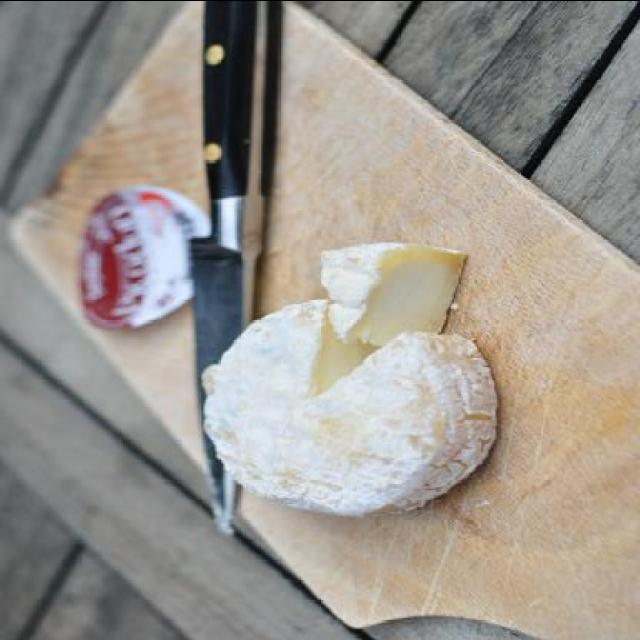Cheese: (194, 296, 503, 518), (316, 240, 468, 348)
